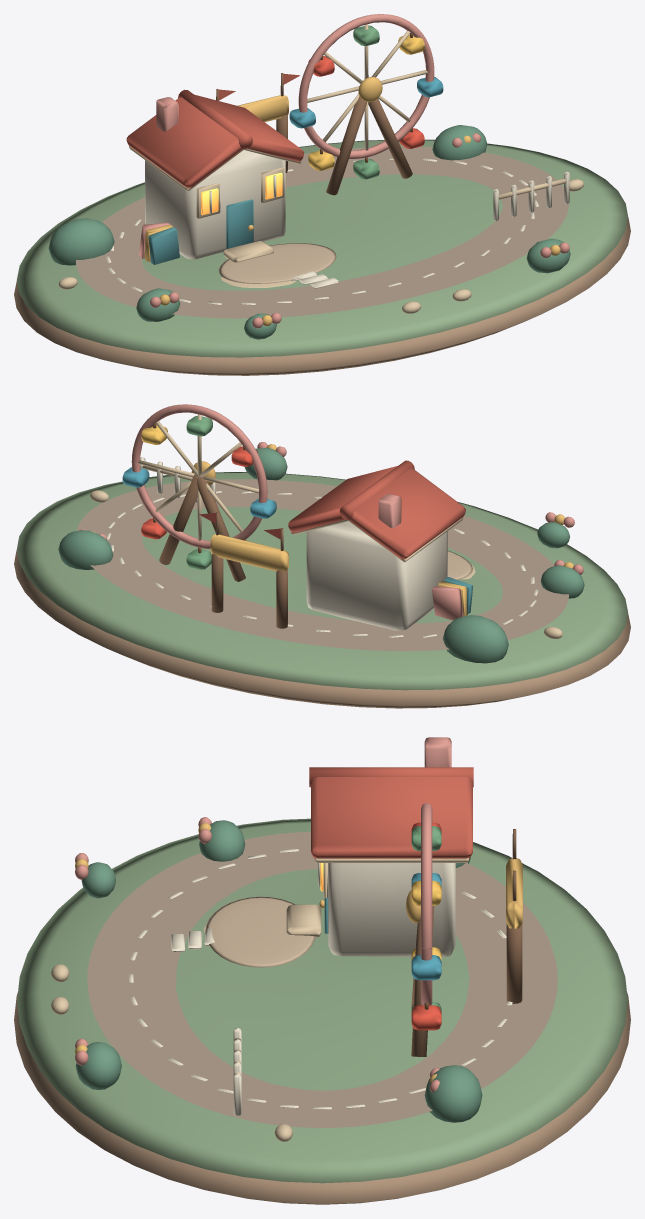
Rendered from environment.glb.
3 renders of one model, top to bottom at view 1: azimuth 30°, elevation 25°; view 2: azimuth 150°, elevation 25°; view 3: azimuth 270°, elevation 25°, orthographic. The views are drawn at different scales.
Parts seen in each view (by area): view 1: Environment_grass, Environment_road, Environment_sand, Environment_ivory, Environment_red, Environment_mint, Environment_cream, RimAndSpokes_pink, Environment_paving, Environment_wood, Environment_blue, Environment_yellow (+3 smaller); view 2: Environment_grass, Environment_road, Environment_ivory, Environment_sand, Environment_red, Environment_mint, Environment_wood, RimAndSpokes_pink, Environment_yellow, Environment_pink, RimAndSpokes_cream, Environment_cream (+3 smaller); view 3: Environment_grass, Environment_road, Environment_sand, Environment_red, Environment_ivory, Environment_mint, Environment_paving, Environment_cream, Environment_wood, RimAndSpokes_pink, Environment_pink, Environment_yellow (+2 smaller).
Boxes of the visible parts, x1,y1,x2,y2 form: Environment_grass: (17,139,627,357); Environment_road: (76,146,568,318); Environment_sand: (14,217,630,375); Environment_ivory: (106,150,569,305); Environment_red: (126,73,303,188); Environment_mint: (48,125,570,339); Environment_cream: (58,146,584,313); RimAndSpokes_pink: (298,14,434,158); Environment_paving: (218,243,336,283); Environment_wood: (216,73,412,195); Environment_blue: (148,199,253,264); Environment_yellow: (145,76,560,326); Environment_grass: (16,472,628,690); Environment_road: (76,479,568,651); Environment_ivory: (106,457,538,637); Environment_sand: (14,550,630,708); Environment_red: (199,460,465,559); Environment_mint: (58,448,584,663); Environment_wood: (159,474,287,628); RimAndSpokes_pink: (131,404,267,549); Environment_yellow: (92,444,573,616); Environment_pink: (79,442,583,620); RimAndSpokes_cream: (138,414,258,540); Environment_cream: (90,465,562,638); Environment_grass: (17,818,627,1183); Environment_road: (87,831,557,1127); Environment_sand: (14,992,630,1204); Environment_red: (309,767,473,858); Environment_ivory: (129,849,512,1116); Environment_mint: (75,820,482,1122); Environment_paving: (205,896,315,967); Environment_cream: (51,858,468,1141); Environment_wood: (411,829,522,1056); RimAndSpokes_pink: (421,803,432,1005); Environment_pink: (75,737,451,1092); Environment_yellow: (75,823,522,1082).
Size of the model in its own units: 11.3 by 4.29 by 8.
